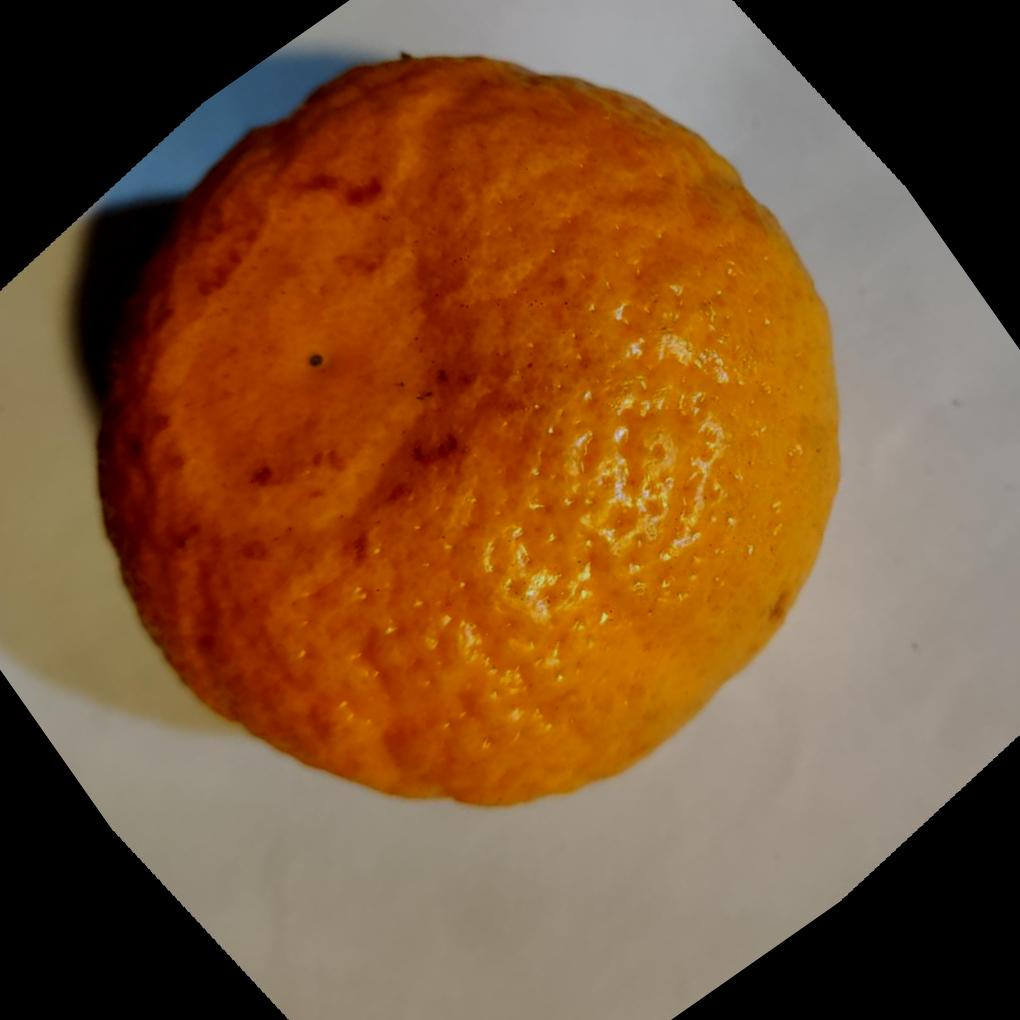FreshGuava: (91, 54, 839, 811)
